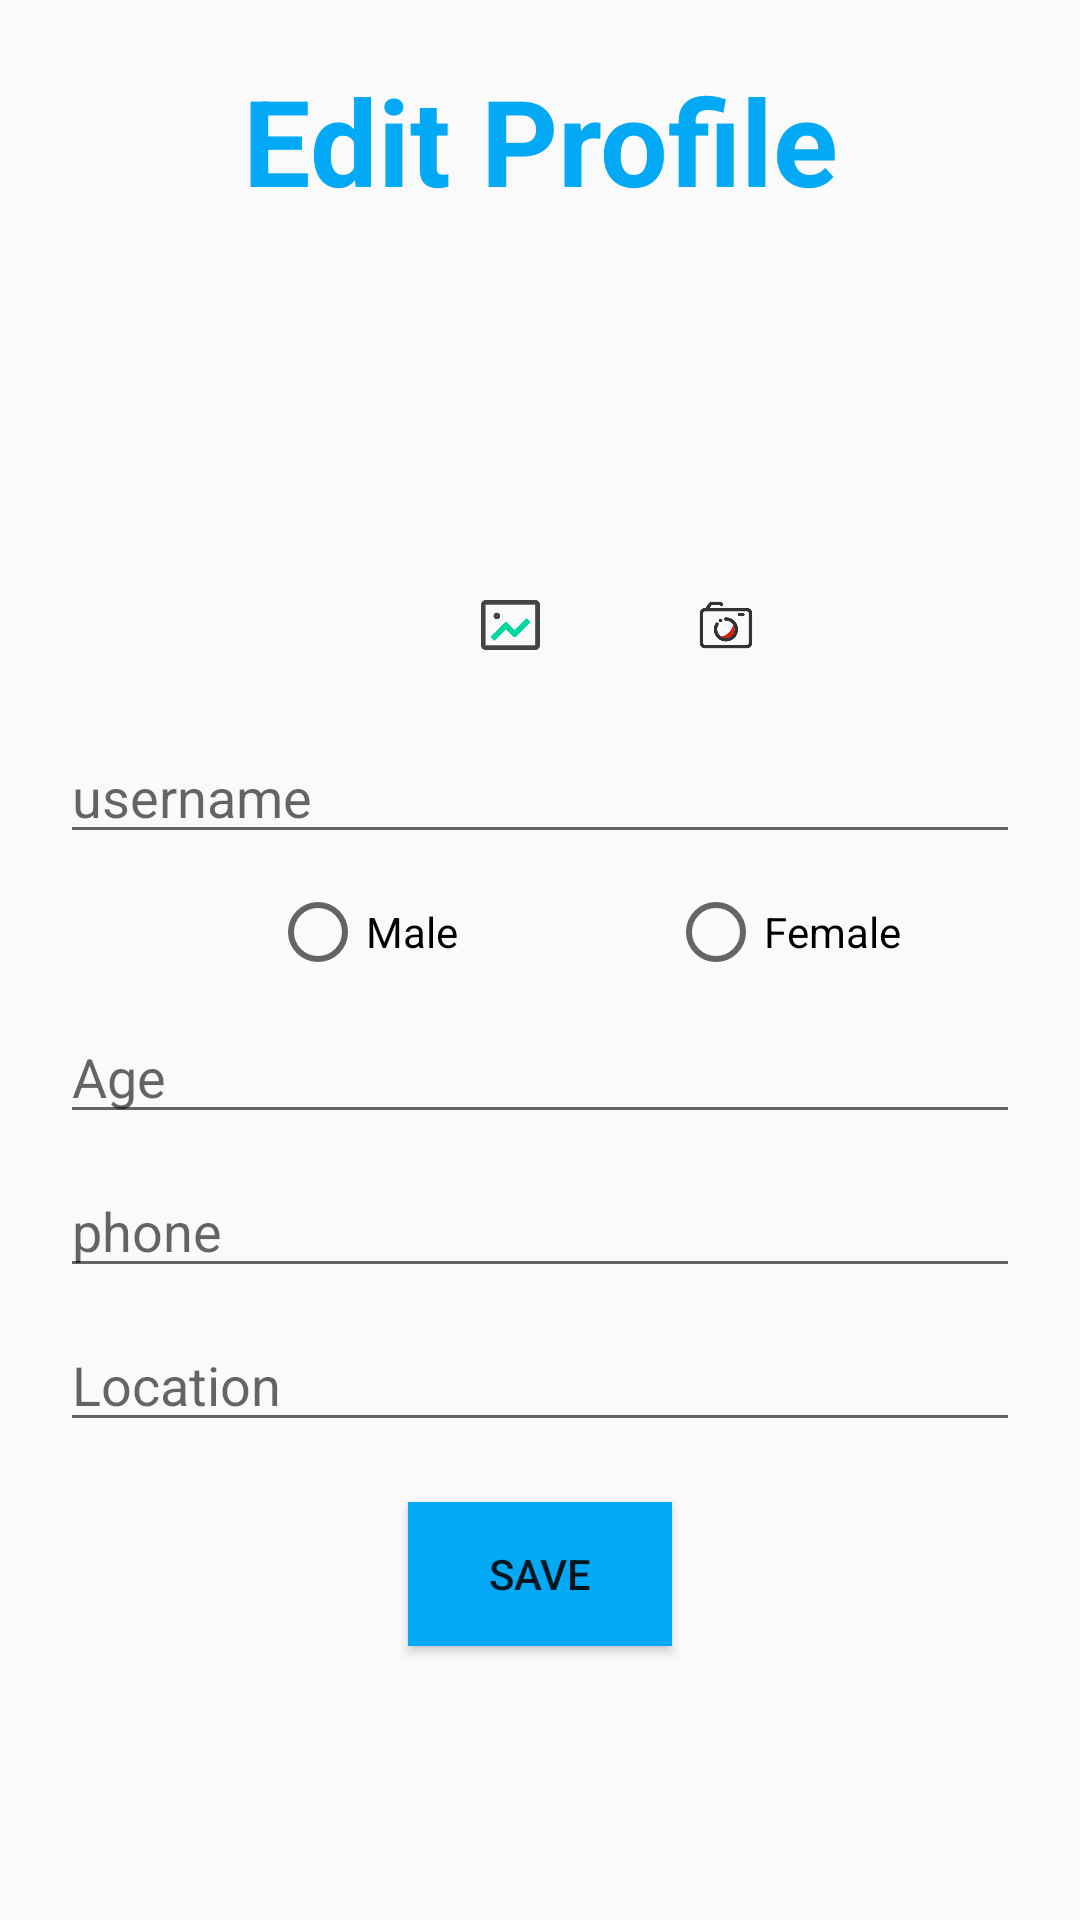

Named icons in this screenshot (1080 x 1920) and their centers, [x,y]:
camera: [726,625]
